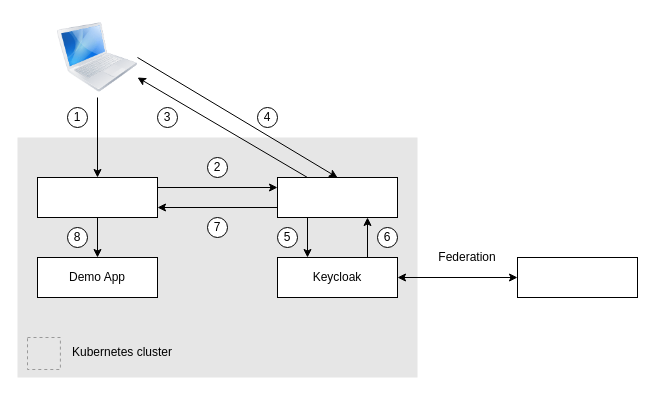
Image size: 655x394. Some labels were removed from this diagram. Grey dashed boxes stand in for pictures. The box of each missing label's shape, as (x1, y1, x2, y2) in pixels:
NGINX Ingress Controler: (36, 176, 158, 218)
OAuth2 Proxy: (276, 176, 398, 218)
OpenLDAP: (516, 256, 638, 298)
